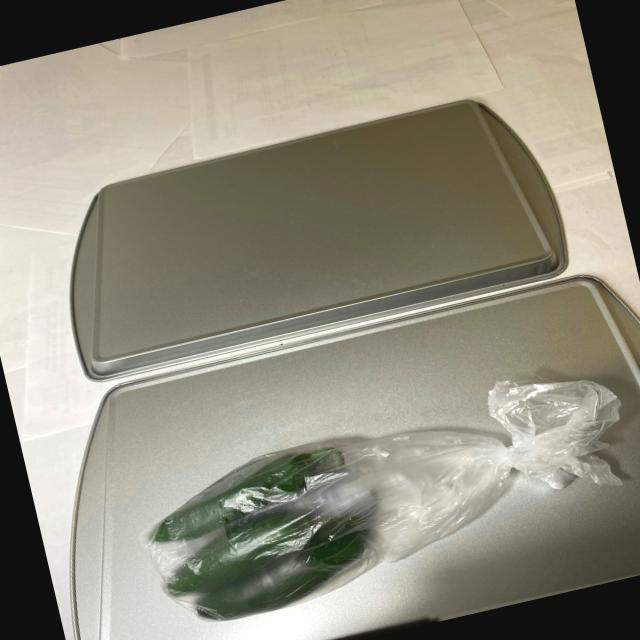chilli: (124, 430, 408, 634)
